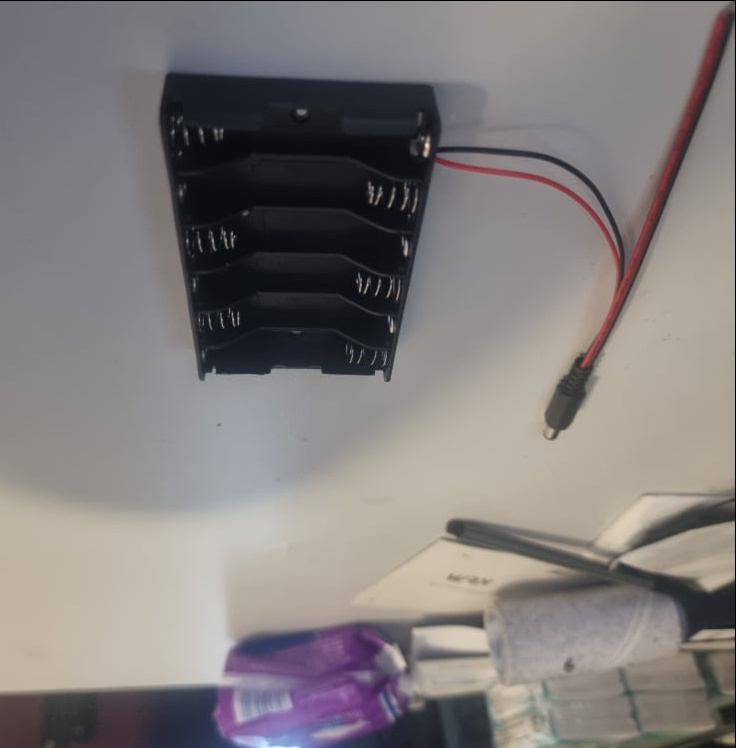BATTERY BOX: (159, 73, 442, 383)
